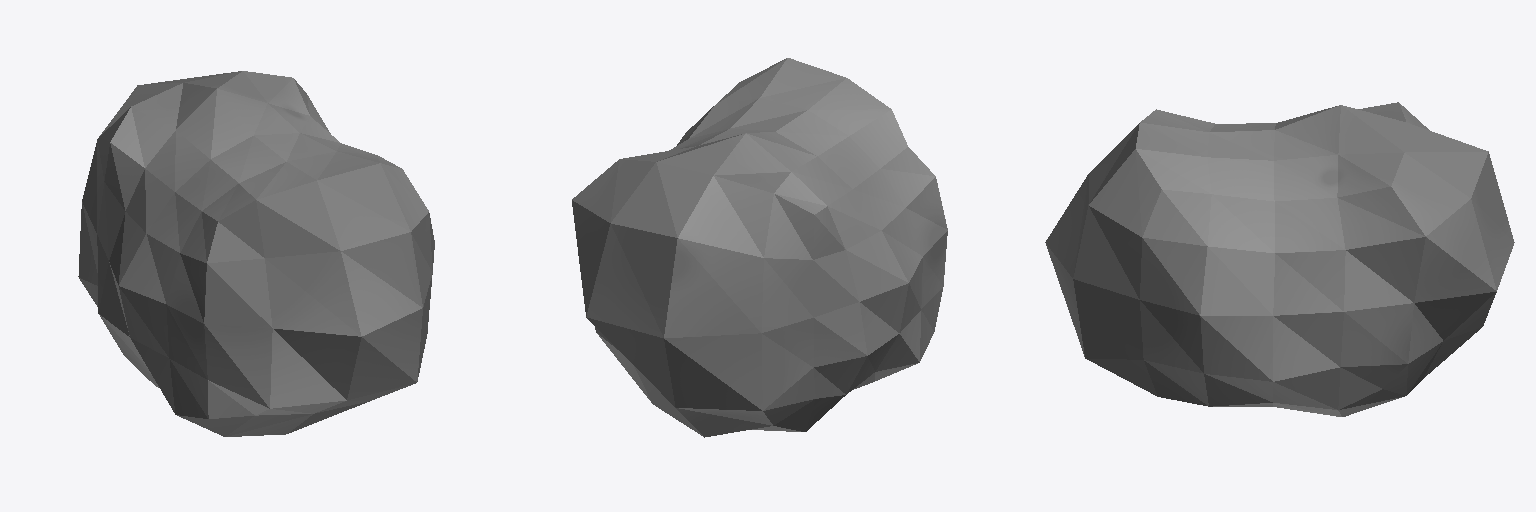
3 renders of one model, left to right at view 1: azimuth 30°, elevation 25°; view 2: azimuth 150°, elevation 25°; view 3: azimuth 270°, elevation 25°, orthographic.
Parts seen in each view (by area): view 1: Cube_Cube.003; view 2: Cube_Cube.003; view 3: Cube_Cube.003.
Part boxes in pixels (bbox=[...]): Cube_Cube.003: bbox=[78, 71, 434, 436]; Cube_Cube.003: bbox=[572, 58, 947, 437]; Cube_Cube.003: bbox=[1045, 102, 1514, 416].
Bounding box in the file's own units: 1.47 × 1.48 × 2.14.
1 materials, 1 textured.